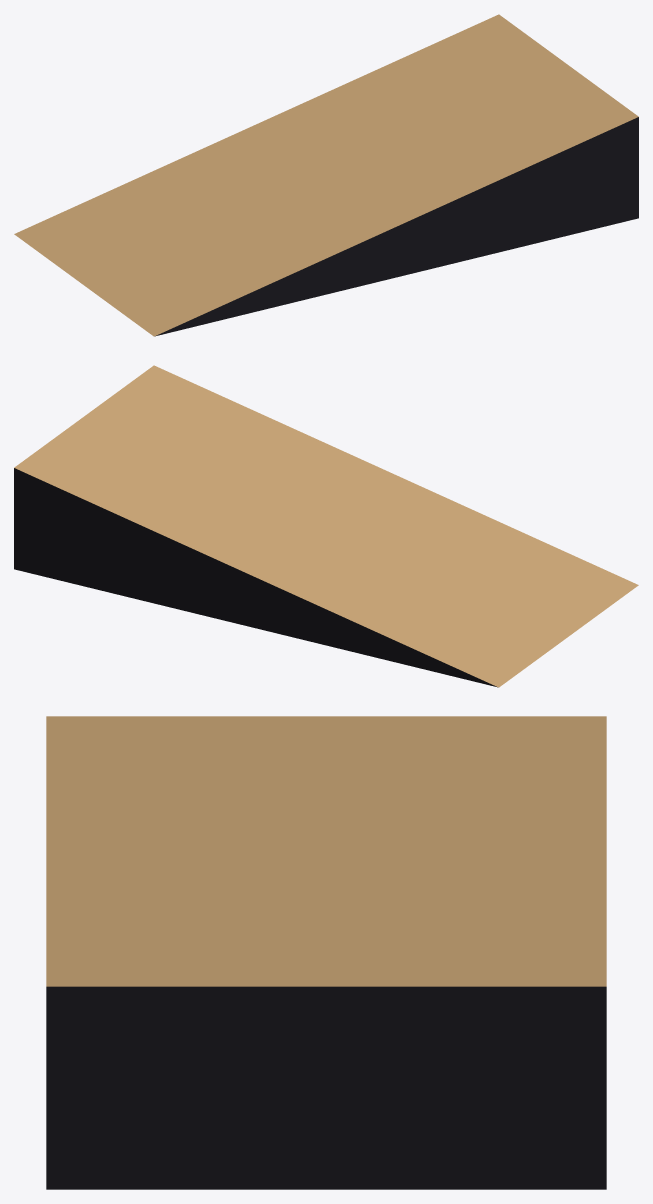
Rendered from Ramp_Half_2.fbx.
3 renders of one model, top to bottom at view 1: azimuth 30°, elevation 25°; view 2: azimuth 150°, elevation 25°; view 3: azimuth 270°, elevation 25°, orthographic. The views are drawn at different scales.
Parts seen in each view (by area): view 1: Ramp_Half_2; view 2: Ramp_Half_2; view 3: Ramp_Half_2.
Boxes of the visible parts, left/top/right/bottom form: Ramp_Half_2: left=14, top=14, right=638, bottom=336; Ramp_Half_2: left=14, top=365, right=638, bottom=687; Ramp_Half_2: left=46, top=716, right=606, bottom=1189.
Bounding box in the file's own units: 10 × 2 × 5.
